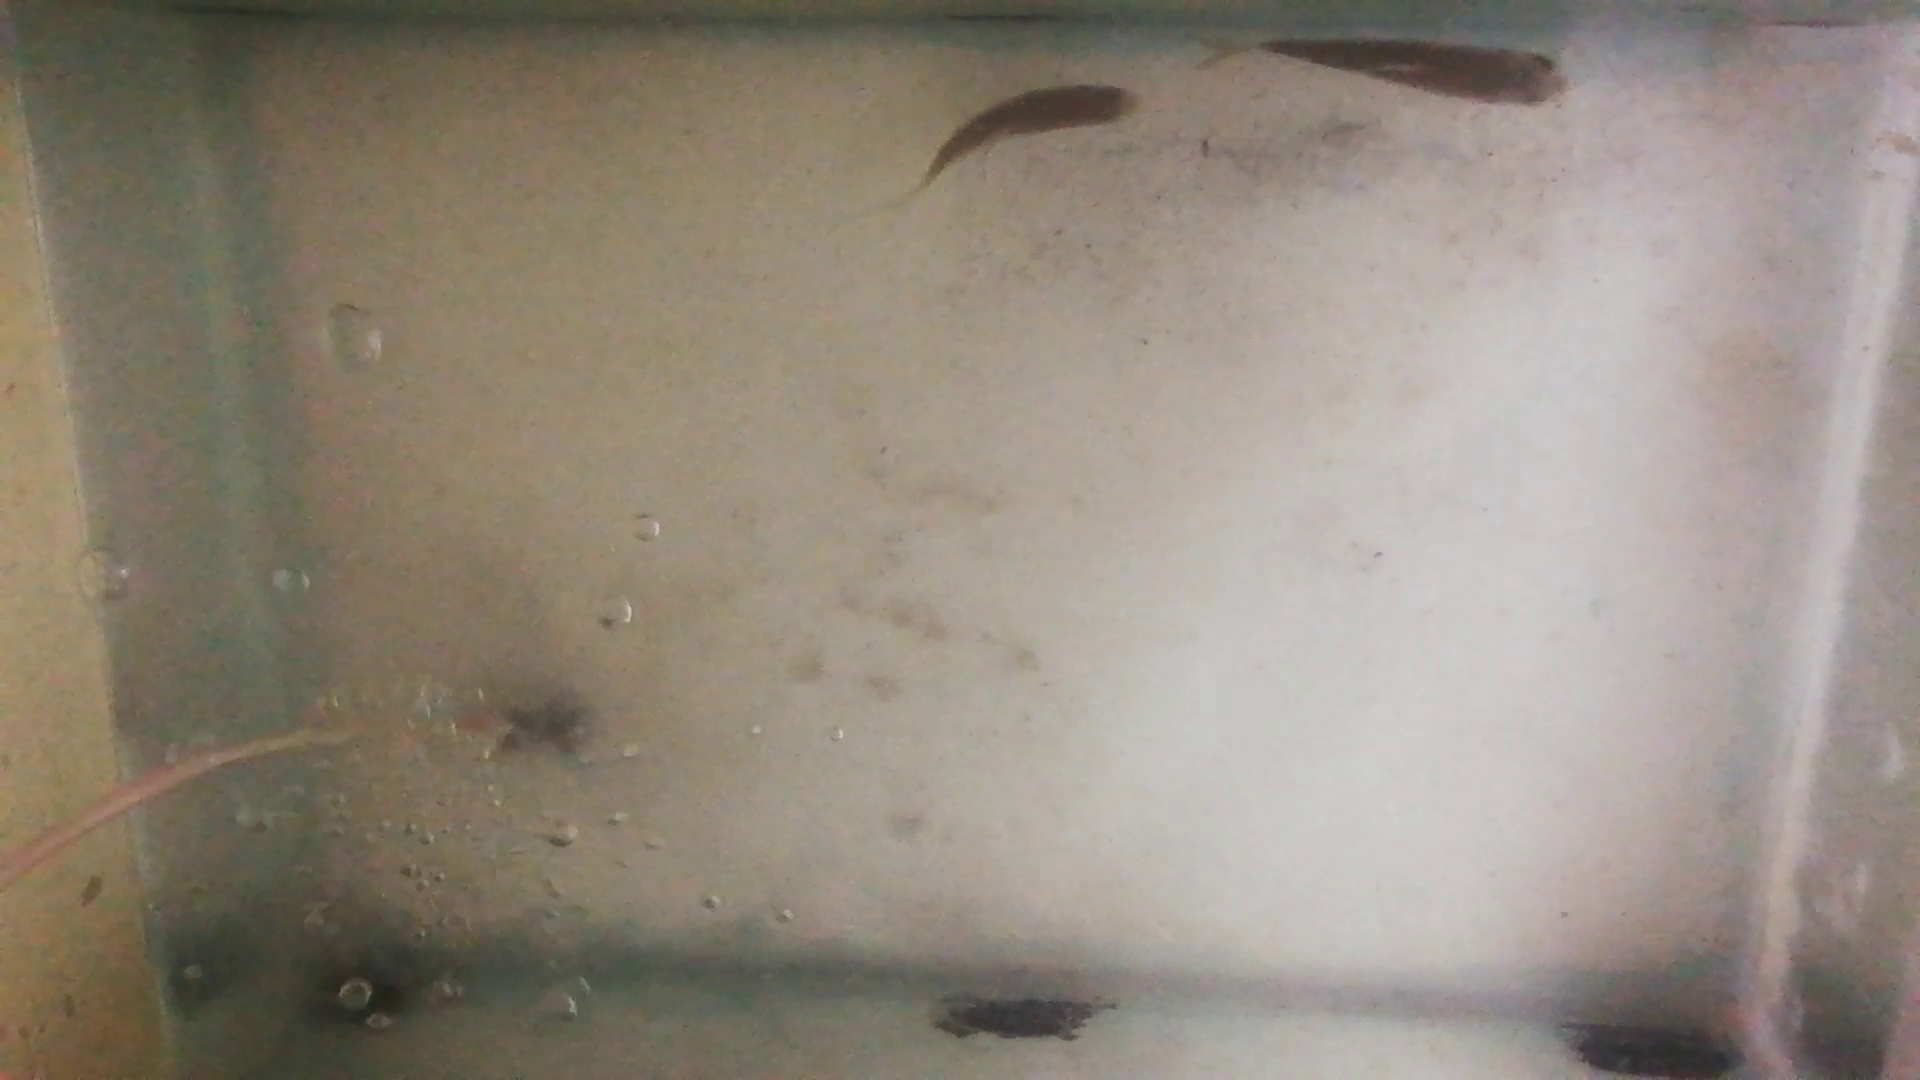fish: (1255, 36, 1569, 105), (924, 83, 1145, 179)
